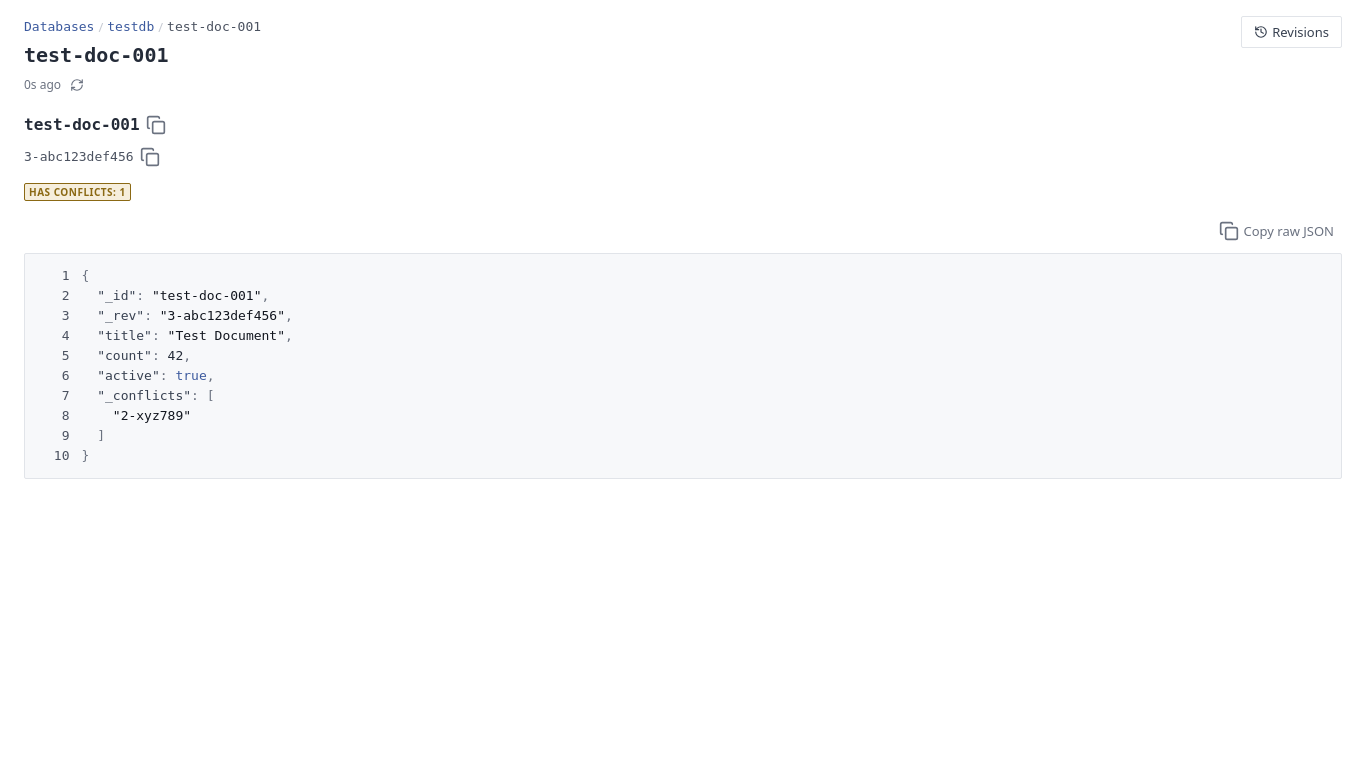
it: DocumentDetailComponent › should show conflict revisions when badge is clicked
Click the button with class "doc-detail__conflict-toggle" at x=77, y=191, box [24, 181, 131, 201]
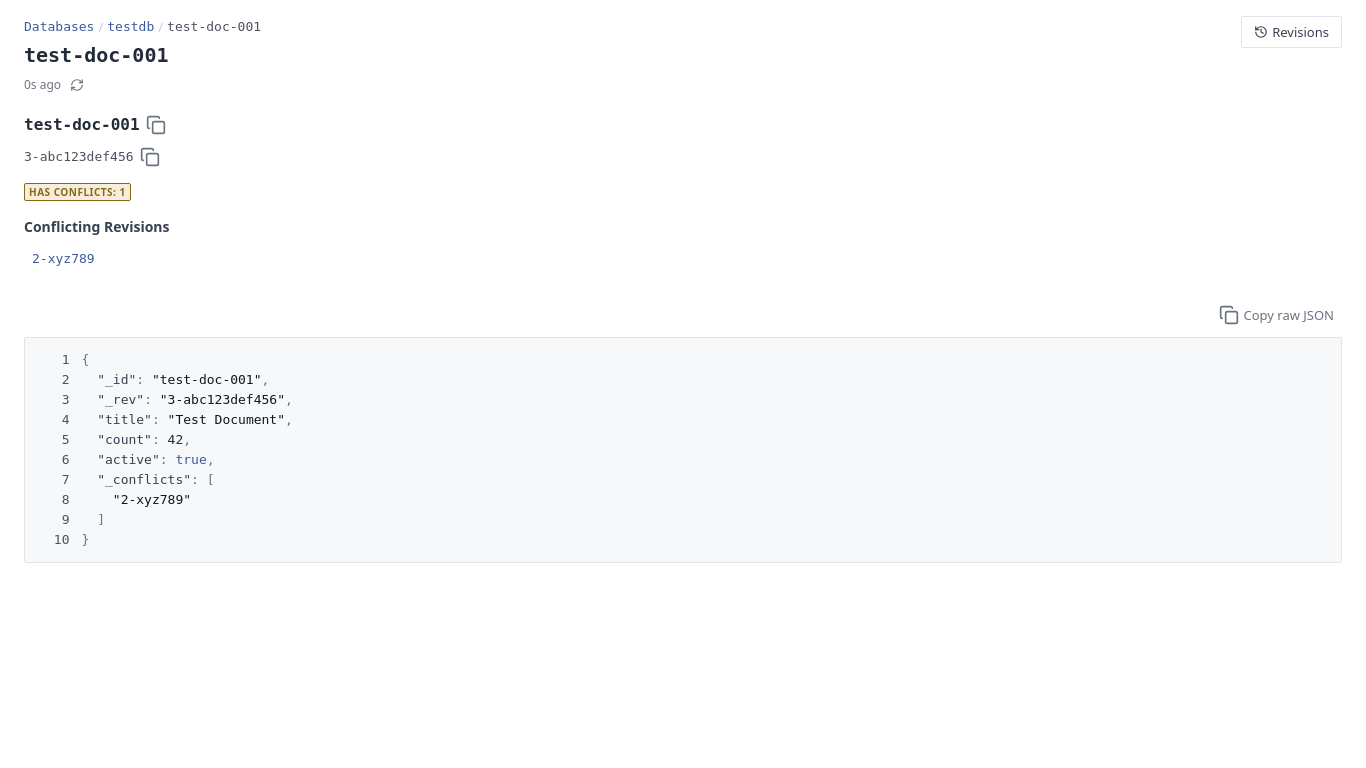
Now the element with class "doc-detail__conflicts" is shown, box [24, 217, 170, 273]
Now the element with class "doc-detail__conflicts" shows "2-xyz789", box [24, 245, 103, 273]
